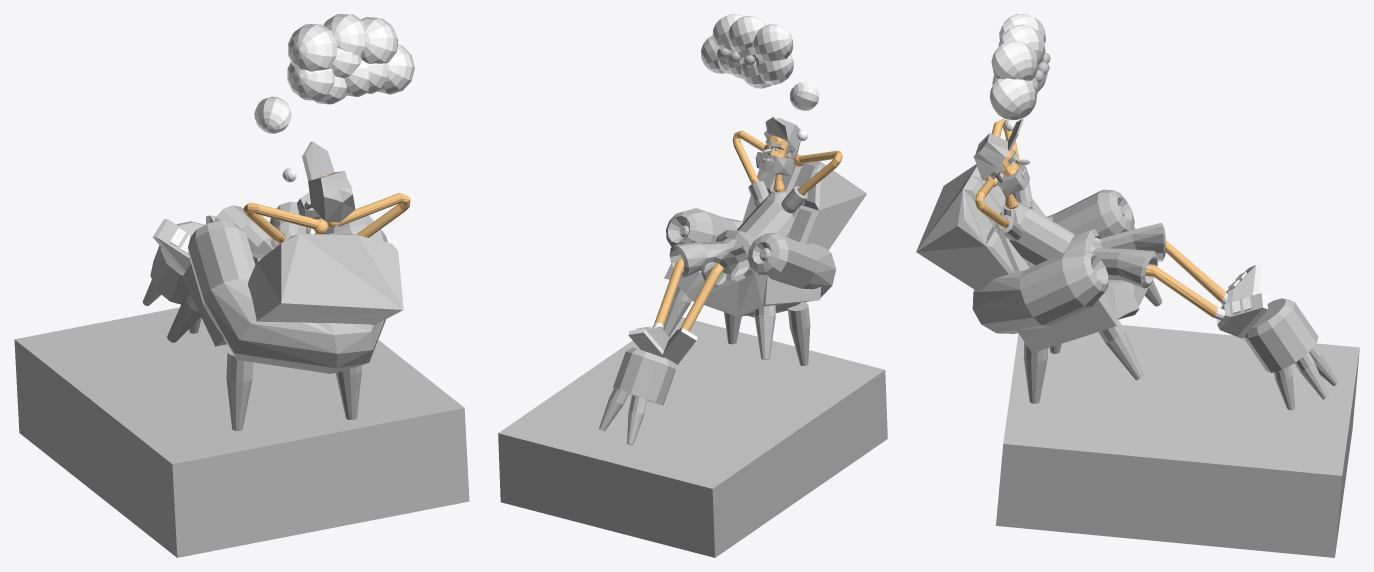
Rendered from RelaxMan.obj.
3 renders of one model, left to right at view 1: azimuth 30°, elevation 25°; view 2: azimuth 150°, elevation 25°; view 3: azimuth 270°, elevation 25°, orthographic. The views are drawn at different scales.
Size of the model in its own units: 2.81 by 4.47 by 3.83.
